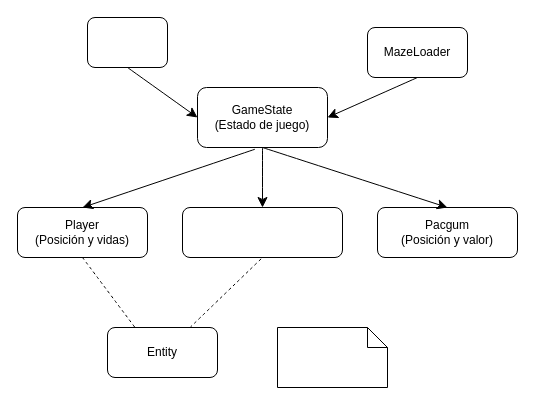
Some shapes in this 535 by 405 pixel diagram are drawn without their labels. Each missing label, with the centre of its shape:
-- Hereda -> Usa/contiene: the point at 332,357
Config: the point at 127,42
Ghost (Modo de movimiento): the point at 262,232
